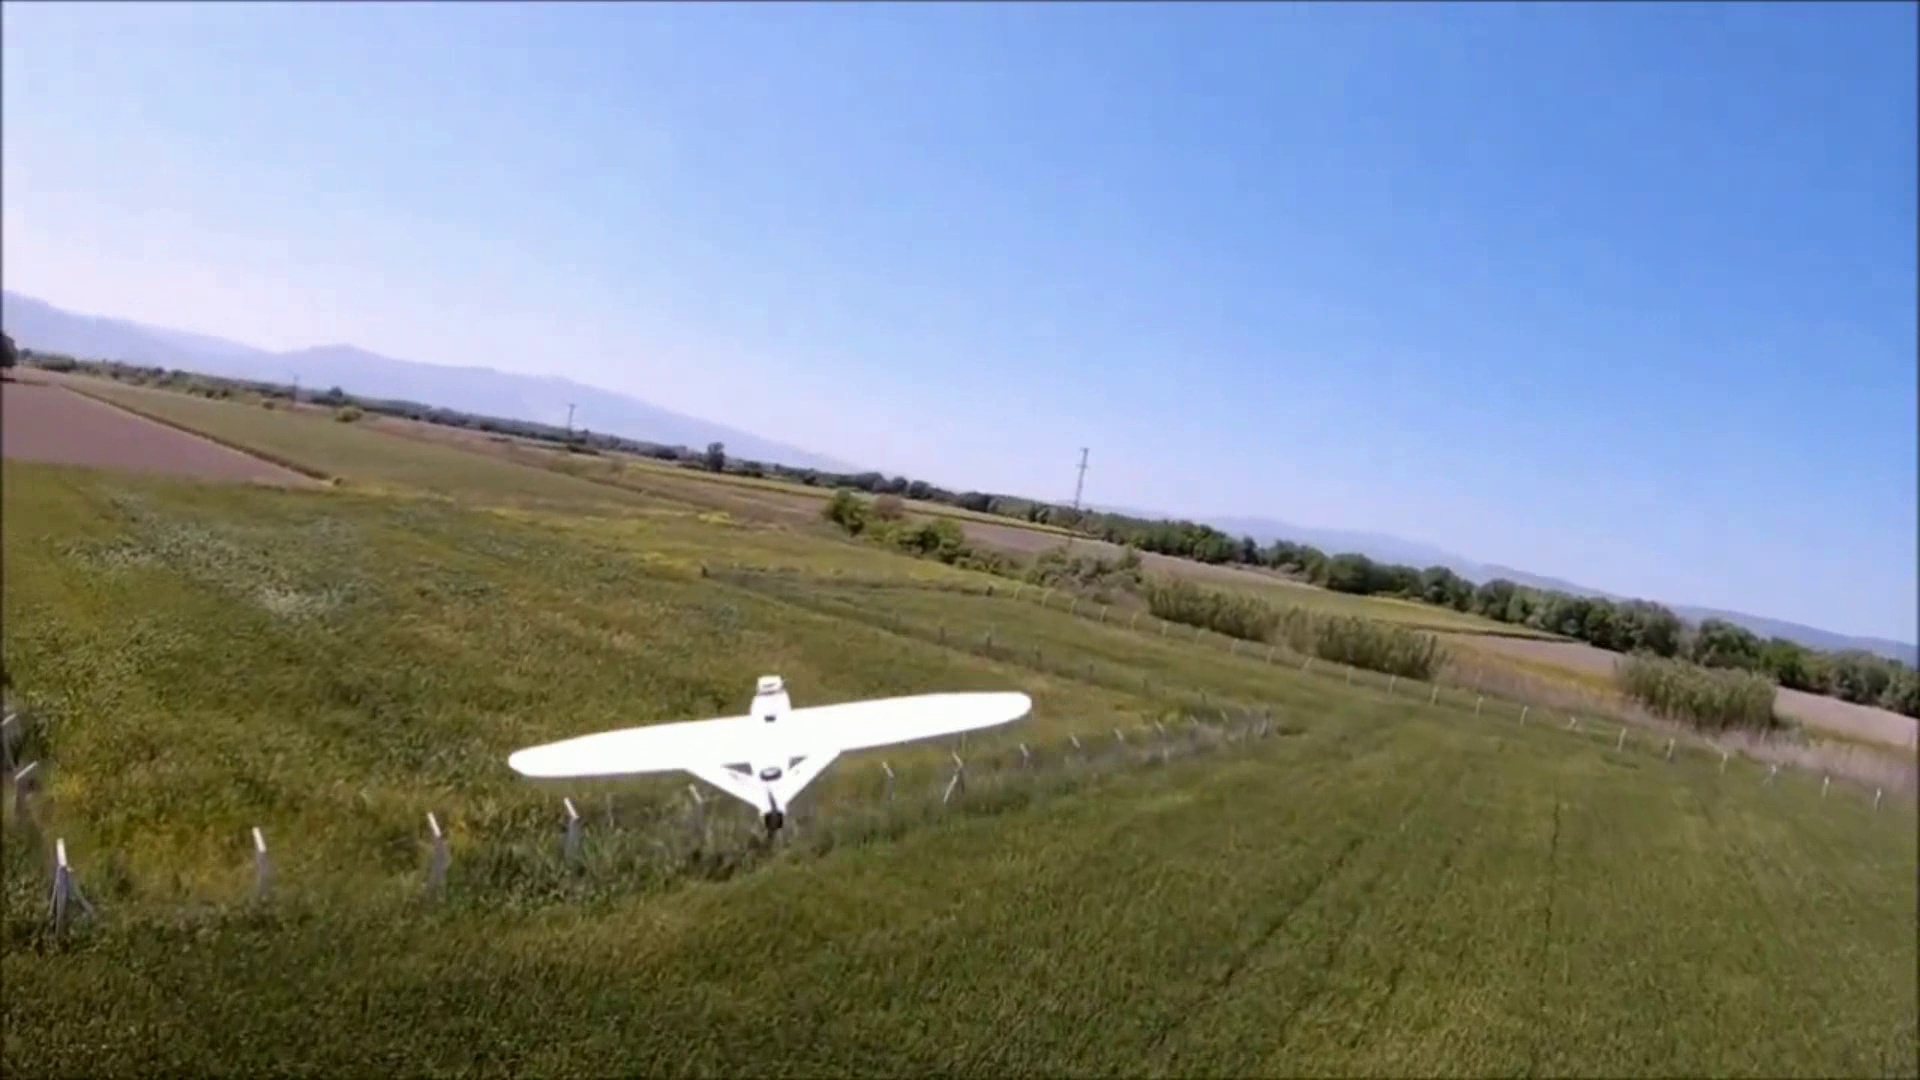airplane: (506, 674, 1033, 843)
